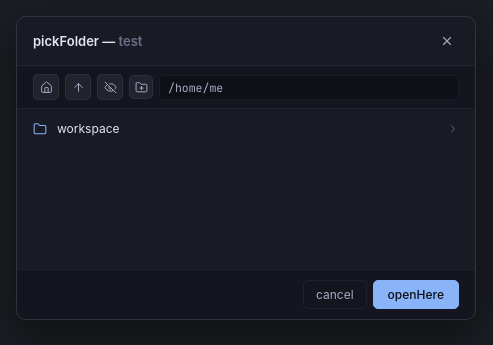
Test case: RemoteFolderPicker 숨김 폴더 › 토글로 보여줄 수 있다
Expected: the text "workspace" is shown, [57,121,120,136]
What coordinates should you click on to do the following:
click the button titled "showHidden"
I would click on:
 (110, 87)
Its box is [97,74,123,100].
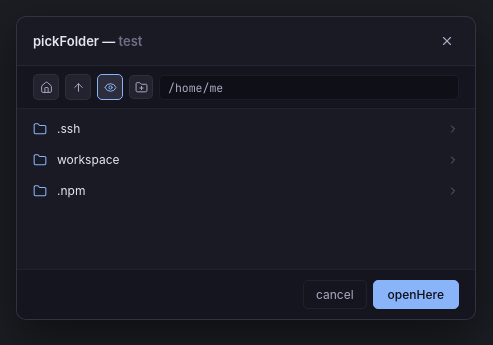
Now the text ".ssh" is shown, box [57,121,80,136]
